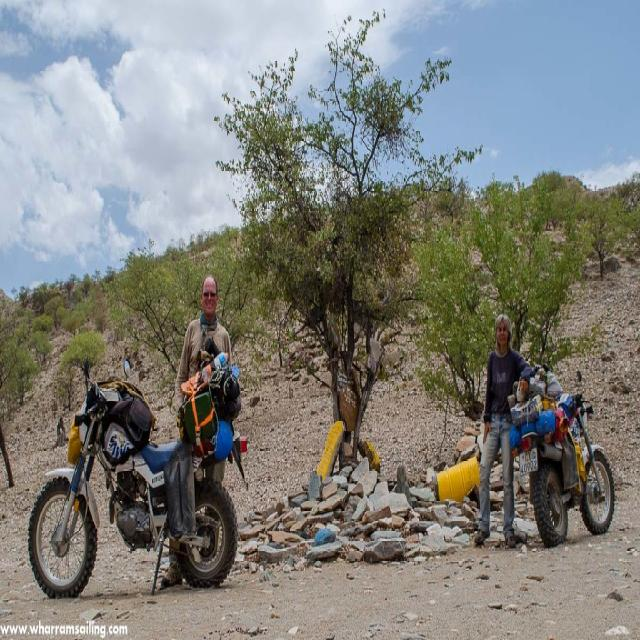Motorbikes: (28, 367, 248, 601), (530, 391, 616, 550)
Pedestrians: (471, 313, 526, 551)
